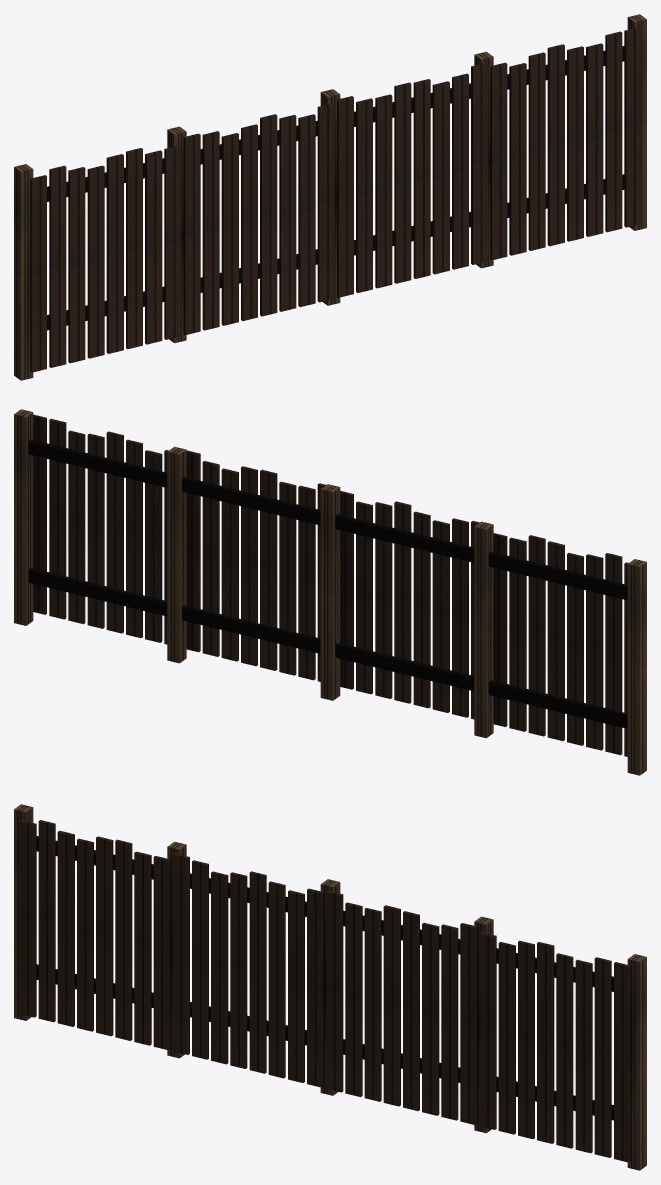
File: wood_fence.glb
The picture shows the model from 3 angles, top to bottom: view 1: azimuth 30°, elevation 25°; view 2: azimuth 150°, elevation 25°; view 3: azimuth 330°, elevation 25°; orthographic projection.
Parts seen in each view (by area): view 1: wood_fence; view 2: wood_fence; view 3: wood_fence.
Boxes of the visible parts, x1=… form: wood_fence: x1=14, y1=14, x2=646, y2=380; wood_fence: x1=14, y1=409, x2=646, y2=775; wood_fence: x1=14, y1=804, x2=646, y2=1170.
Bounding box in the file's own units: 4.08 × 1.3 × 0.11.
2 materials, 2 textured.
